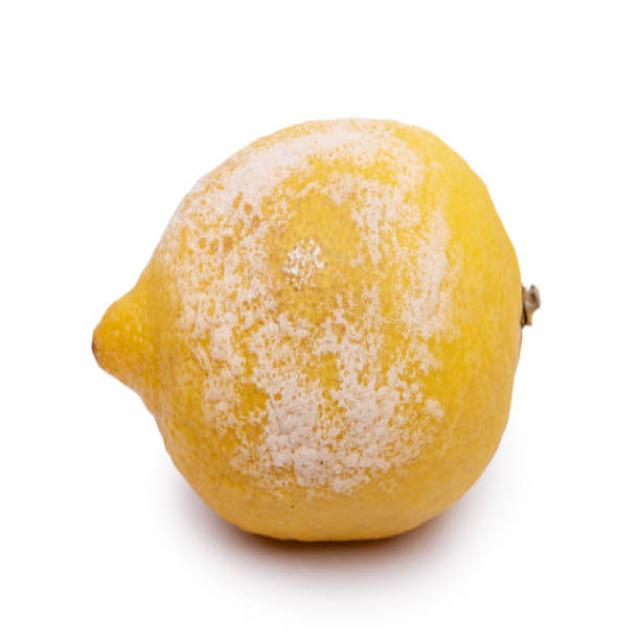Rotten: (93, 115, 542, 544)
